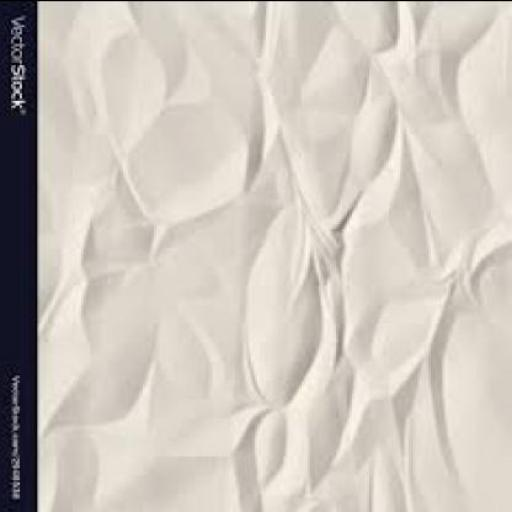paper: (42, 1, 511, 510)
